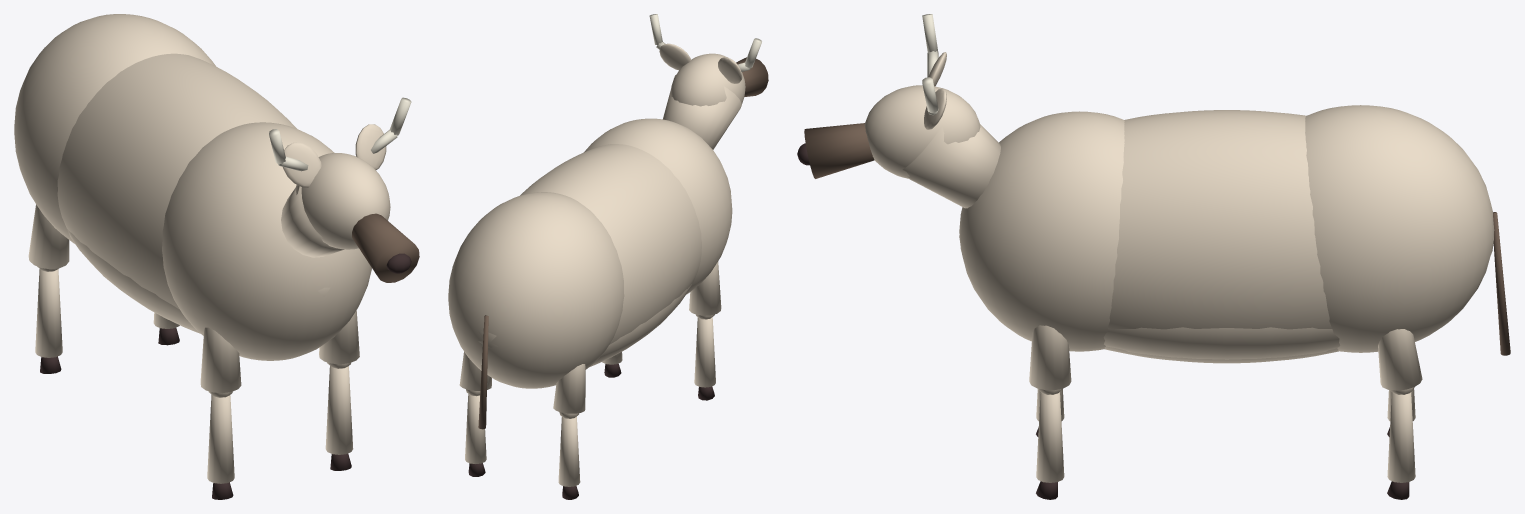
File: vache.glb
3 views of the same model, side by side, from view 1: azimuth 30°, elevation 25°; view 2: azimuth 150°, elevation 25°; view 3: azimuth 270°, elevation 25° (orthographic). The views are drawn at different scales.
Parts seen in each view (by area): view 1: poitrail, corps, croupe, crane, museau, haut, bas, bas.001, bas.002, ventre, cou, haut.002 (+5 smaller); view 2: croupe, corps, poitrail, crane, cou, bas.002, bas, haut.002, ventre, haut, bas.003, queue.001 (+4 smaller); view 3: corps, croupe, poitrail, ventre, crane, cou, museau, haut.001, haut.003, bas.003, bas.001, queue.001.
Part boxes in pixels (x1,y1,x2,y2): poitrail: [162, 122, 371, 360]; corps: [57, 53, 330, 333]; croupe: [14, 14, 215, 243]; crane: [295, 153, 390, 249]; museau: [352, 213, 419, 282]; haut: [200, 327, 241, 393]; bas: [207, 394, 234, 483]; bas.001: [325, 366, 353, 454]; bas.002: [35, 269, 62, 357]; ventre: [67, 229, 195, 329]; cou: [281, 186, 344, 257]; haut.002: [28, 204, 69, 269]; croupe: [448, 192, 624, 388]; corps: [478, 144, 701, 366]; poitrail: [584, 118, 732, 294]; crane: [670, 53, 745, 106]; cou: [663, 75, 741, 149]; bas.002: [558, 416, 580, 486]; bas: [694, 317, 715, 387]; haut.002: [553, 364, 585, 413]; ventre: [591, 284, 691, 365]; haut: [689, 261, 721, 315]; bas.003: [465, 394, 486, 463]; queue.001: [478, 315, 488, 429]; corps: [959, 110, 1493, 363]; croupe: [1305, 105, 1494, 352]; poitrail: [959, 111, 1124, 351]; ventre: [1103, 327, 1340, 359]; crane: [864, 85, 980, 178]; cou: [902, 124, 1000, 208]; museau: [804, 123, 874, 178]; haut.001: [1029, 325, 1071, 390]; haut.003: [1378, 329, 1422, 390]; bas.003: [1387, 392, 1415, 482]; bas.001: [1036, 392, 1064, 482]; queue.001: [1493, 212, 1510, 355].
Size of the model in its own units: 0.8 by 1.65 by 2.53.
